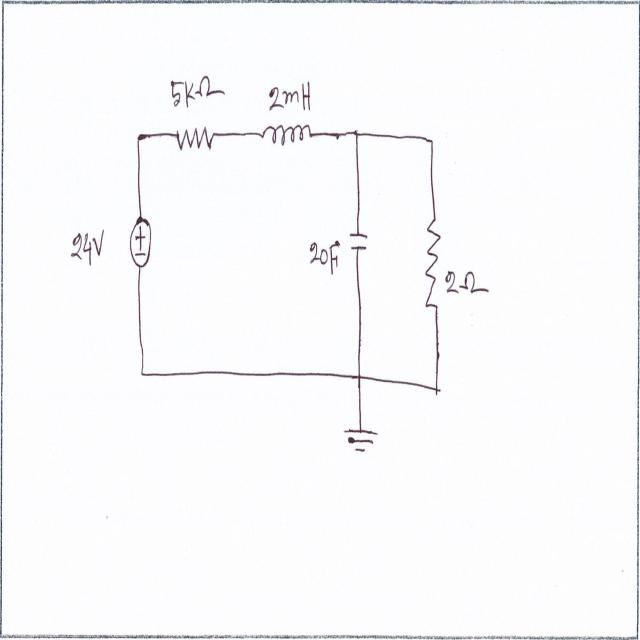capacitor: (348, 228, 370, 258)
ground: (342, 421, 378, 454)
inductor: (262, 118, 314, 153)
resistor: (421, 216, 444, 312), (176, 118, 214, 158)
voltage_source: (126, 212, 156, 271)
